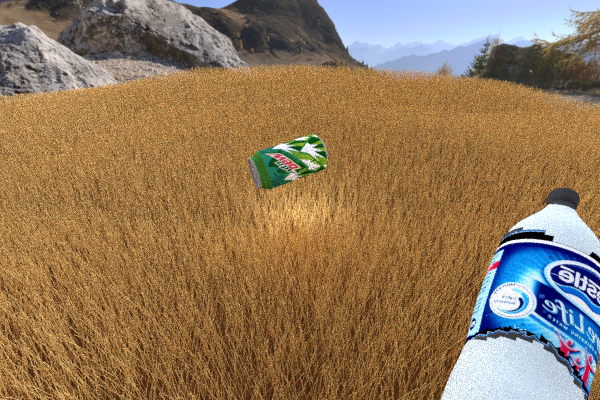Plastic Bottle: (426, 187, 600, 400), (247, 133, 328, 189), (326, 101, 365, 132)
